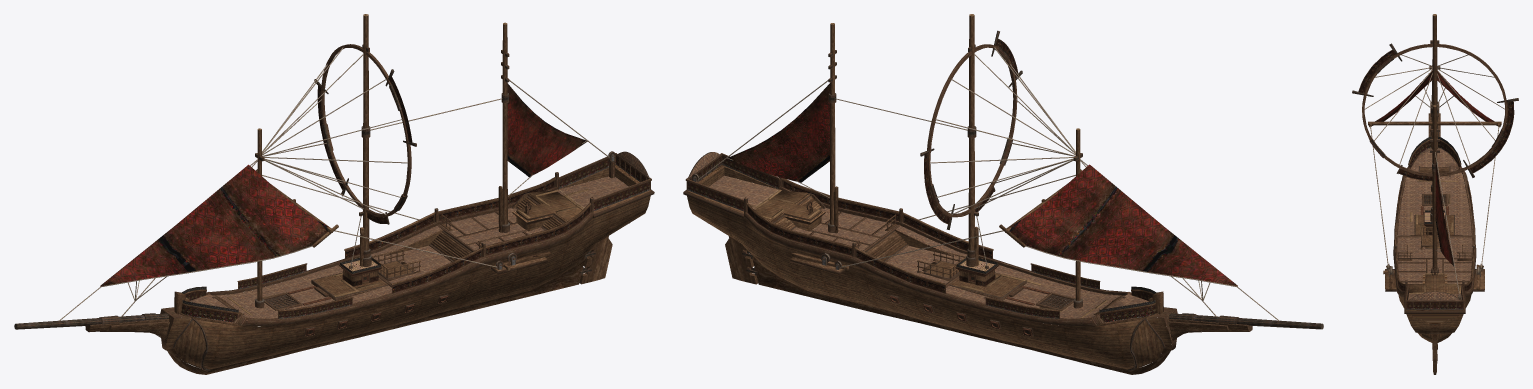
Rendered from o_mdl_env_propShipCorsair_c-transformed.glb.
The picture shows the model from 3 angles, left to right: view 1: azimuth 30°, elevation 25°; view 2: azimuth 150°, elevation 25°; view 3: azimuth 270°, elevation 25°; orthographic projection. The views are drawn at different scales.
Parts seen in each view (by area): view 1: default; view 2: default; view 3: default.
Part boxes in pixels (x1=…): default: x1=14, y1=14, x2=654, y2=374; default: x1=683, y1=14, x2=1323, y2=374; default: x1=1352, y1=14, x2=1518, y2=374.
Bounding box in the file's own units: 234 × 115 × 66.03.
6 materials, 6 textured.
